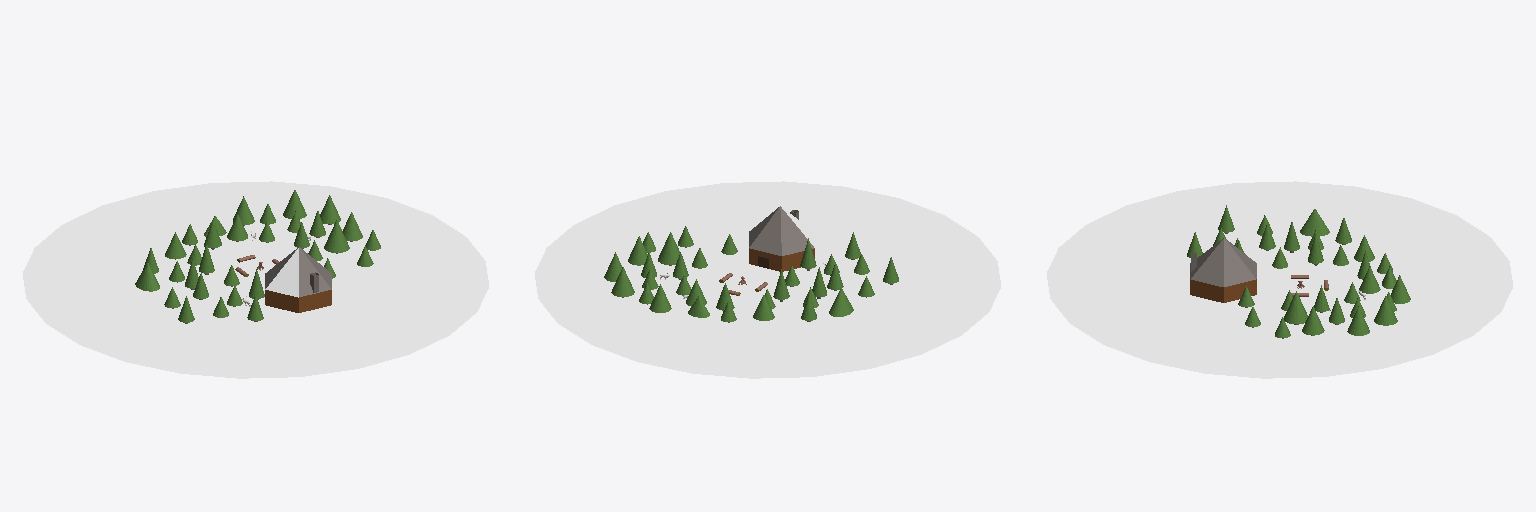
Rendered from ready_world2.obj.
3 renders of one model, left to right at view 1: azimuth 30°, elevation 25°; view 2: azimuth 150°, elevation 25°; view 3: azimuth 270°, elevation 25°, orthographic.
Visible parts, largest first — view 1: ready_world-SKP-Default_Material, ready_world-COM-house-64049-Roofing_Shingles_Multi, ready_world-COM-house-64049-seina, ready_world-COM-house-64049-Default_Material; view 2: ready_world-SKP-Default_Material, ready_world-COM-house-64049-Roofing_Shingles_Multi, ready_world-COM-house-64049-seina; view 3: ready_world-SKP-Default_Material, ready_world-COM-house-64049-Roofing_Shingles_Multi, ready_world-COM-house-64049-seina.
Part boxes in pixels (bbox=[...]): ready_world-SKP-Default_Material: bbox=[23, 181, 488, 378]; ready_world-COM-house-64049-Roofing_Shingles_Multi: bbox=[265, 247, 331, 296]; ready_world-COM-house-64049-seina: bbox=[265, 290, 331, 312]; ready_world-COM-house-64049-Default_Material: bbox=[265, 248, 298, 297]; ready_world-SKP-Default_Material: bbox=[535, 181, 1000, 378]; ready_world-COM-house-64049-Roofing_Shingles_Multi: bbox=[749, 206, 813, 255]; ready_world-COM-house-64049-seina: bbox=[749, 248, 814, 271]; ready_world-SKP-Default_Material: bbox=[1047, 181, 1512, 378]; ready_world-COM-house-64049-Roofing_Shingles_Multi: bbox=[1190, 238, 1256, 286]; ready_world-COM-house-64049-seina: bbox=[1190, 279, 1256, 302].
Bounding box in the file's own units: 92.61 × 11.35 × 92.61.